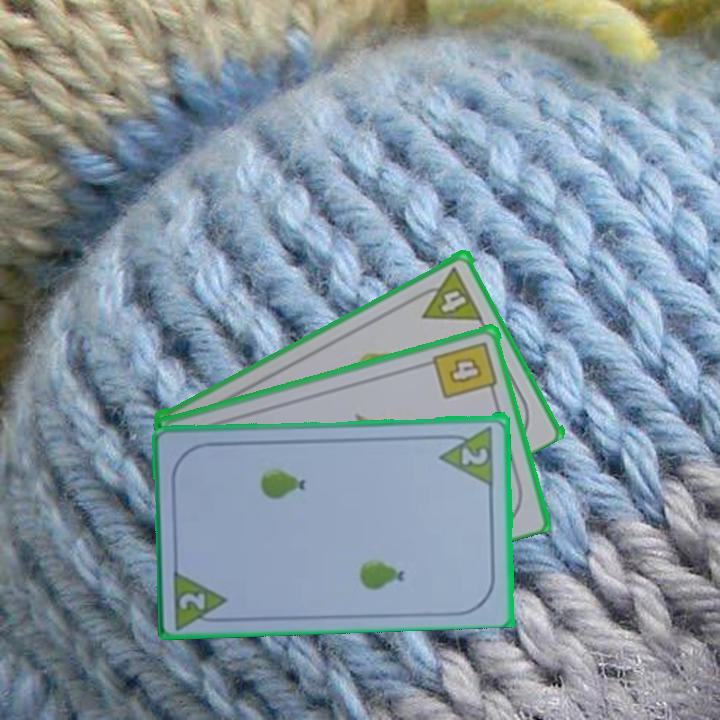2p: (436, 422, 497, 486), (175, 589, 209, 613)
4b: (430, 337, 501, 401)
4p: (410, 262, 485, 324)
